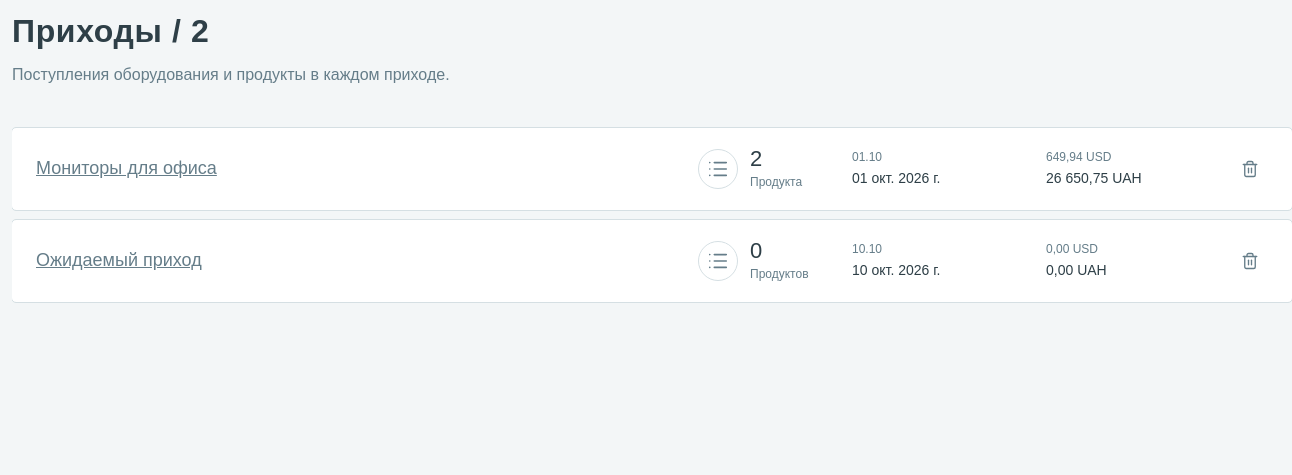
OrdersList with RTK Query › selects and switches orders through the icons, loads their products, and clears selection on close
Click the button named "Открыть приход «Мониторы для офиса»" at {"x": 718, "y": 169}, box [698, 149, 738, 189]
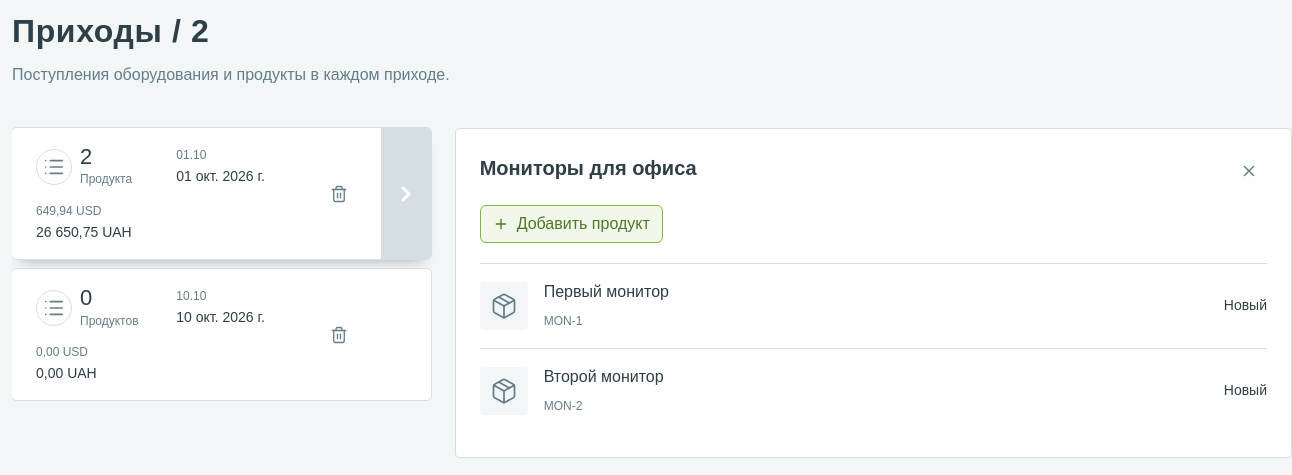
Expected: the heading "Мониторы для офиса" is shown, [480, 153, 697, 183]
Expected: the text "Первый монитор" is shown, [544, 283, 669, 300]
Click the button named "Открыть приход «Ожидаемый приход»" at {"x": 54, "y": 308}, box [36, 290, 72, 326]
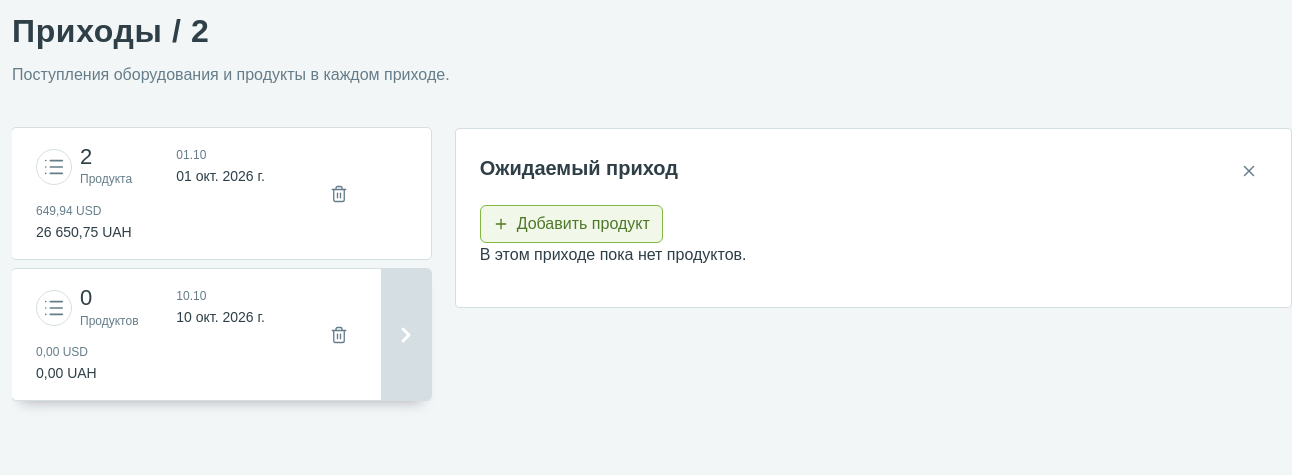
Expected: the heading "Ожидаемый приход" is shown, [480, 153, 678, 183]
Expected: the text "В этом приходе пока нет продуктов." is shown, [480, 246, 746, 263]
Expected: the text "Первый монитор" is gone
Click the button named "Закрыть детали прихода" at {"x": 1249, "y": 171}, box [1231, 153, 1267, 189]
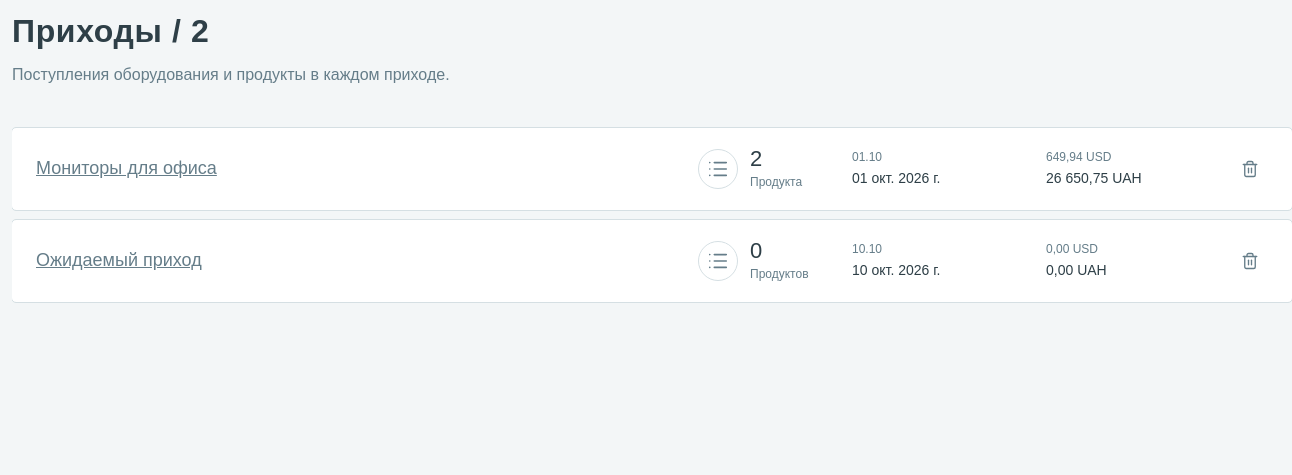
Click the button named "Открыть приход «Мониторы для офиса»" at {"x": 718, "y": 169}, box [698, 149, 738, 189]
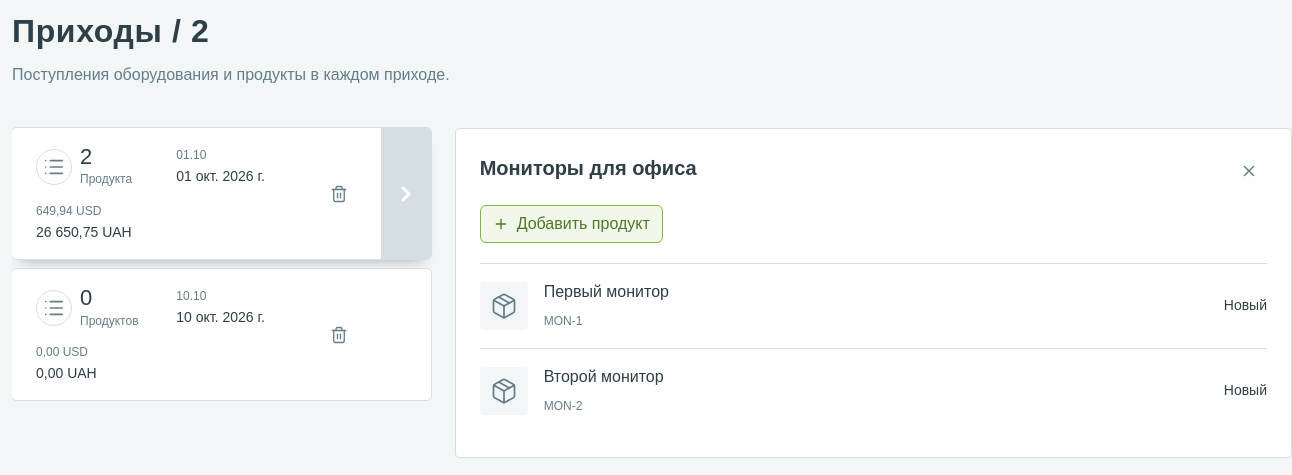
Expected: the element that starts with "Мониторы для офиса" shows "Первый монитор", [544, 283, 669, 300]
